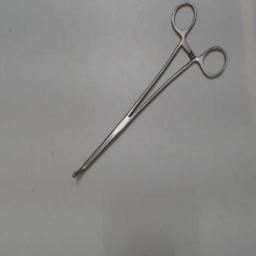Lahey Forceps: (67, 0, 229, 190)
